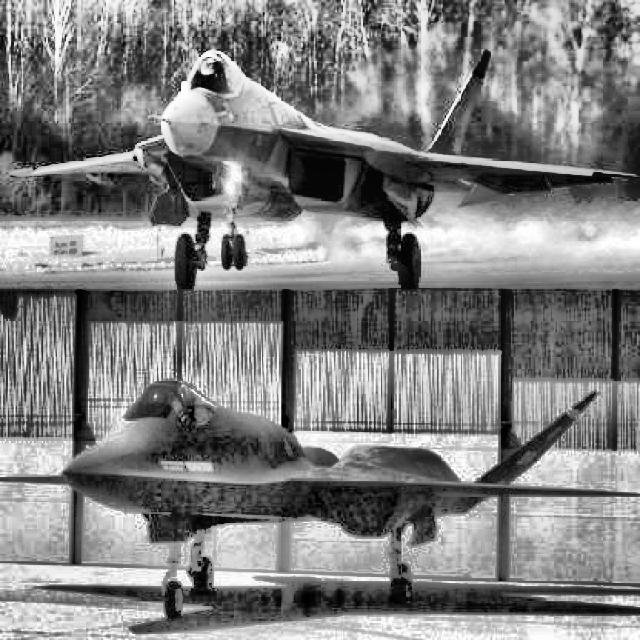Su57: (9, 49, 638, 289)
YF23: (1, 378, 639, 620)
